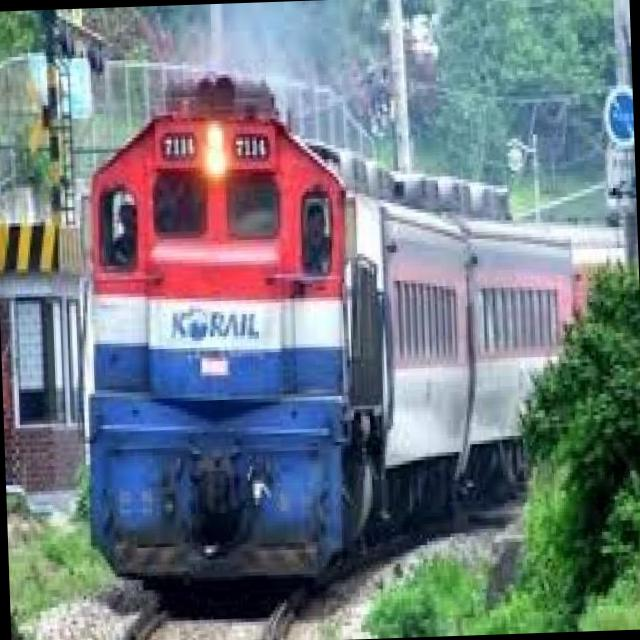trains: (83, 73, 627, 602)
